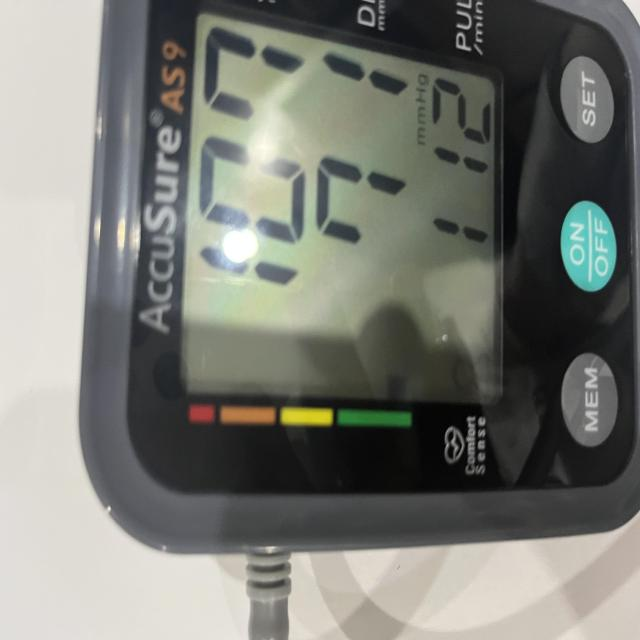bp: (77, 0, 640, 609)
